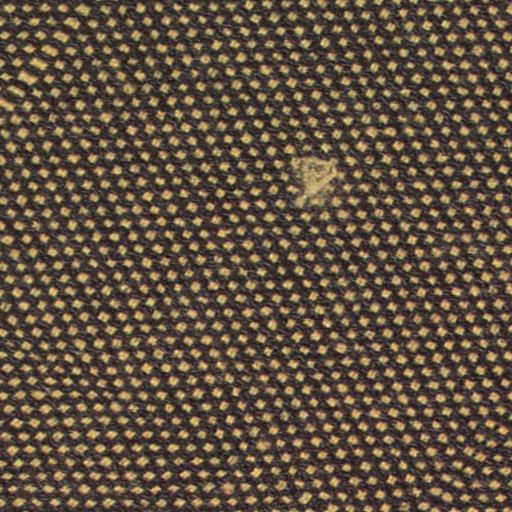knot: (289, 150, 347, 208)
